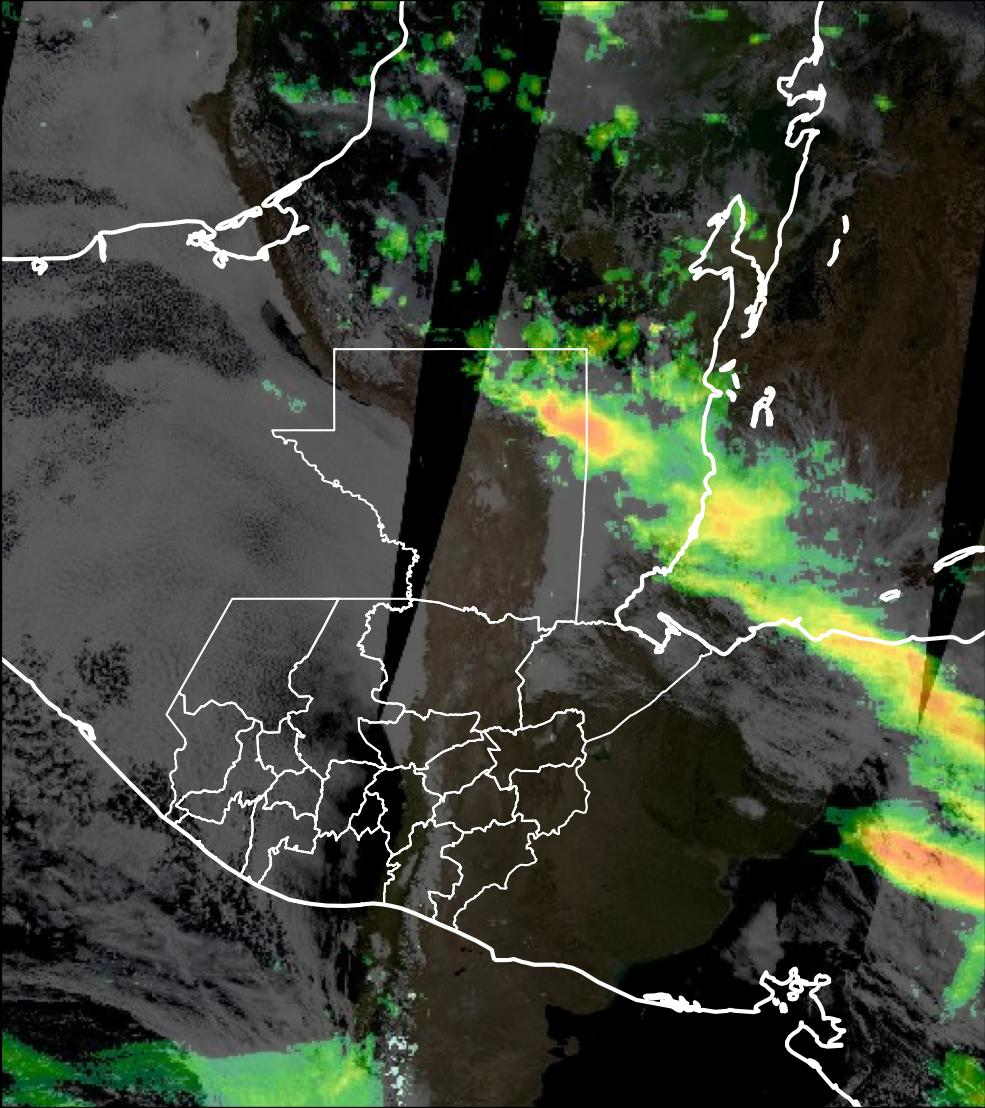precipitacion: (849, 811, 985, 933), (523, 381, 647, 466)
